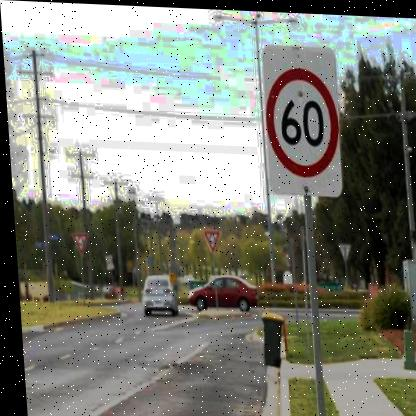Speed Limit -60-: (257, 63, 341, 177)
